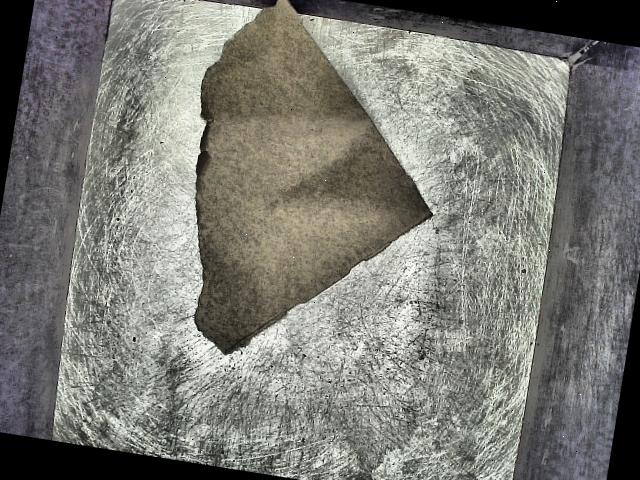Paper: (138, 0, 479, 389)
